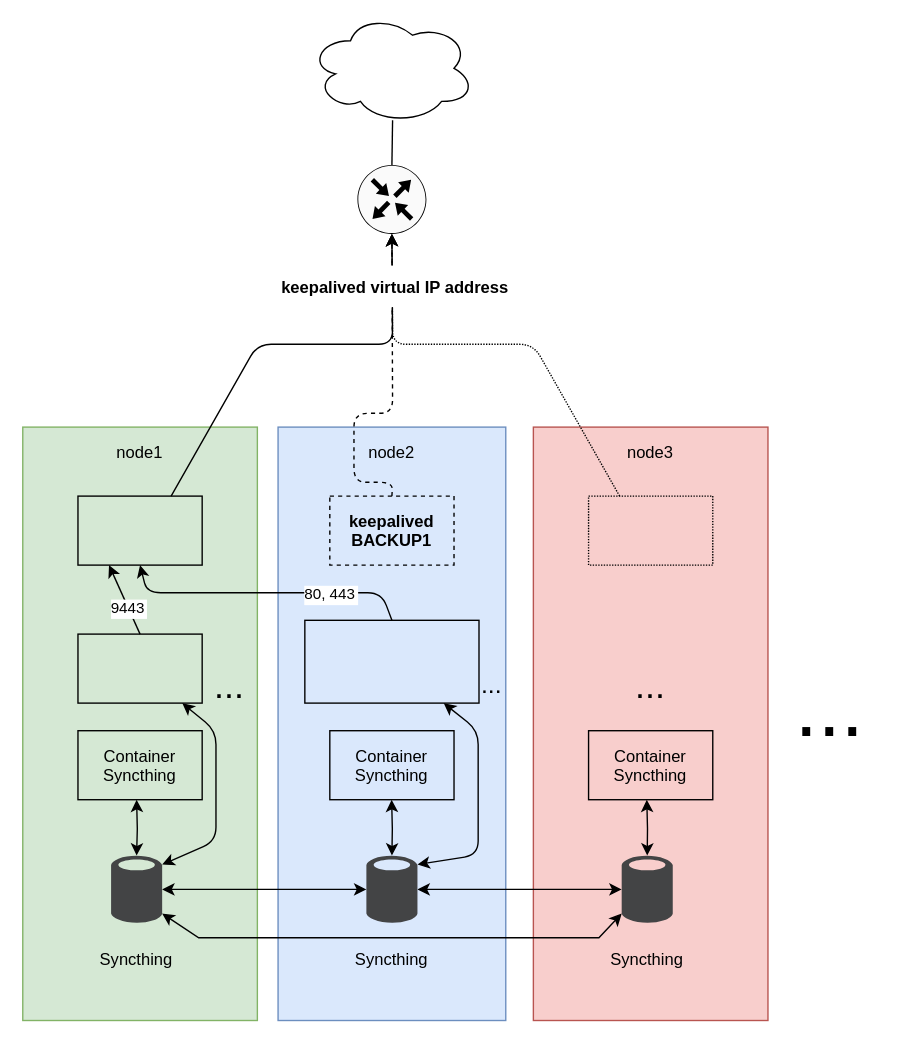
This 901x1043 diagram has some shape labels left out. Each missing label, with the centre of its shape:
Container Nginx Proxy Manager or Traefik: pixel 391 661
Container Portainer: pixel 139 668
Internet: pixel 391 68
keepalived BACKUP2: pixel 650 530
keepalived MASTER: pixel 139 530
